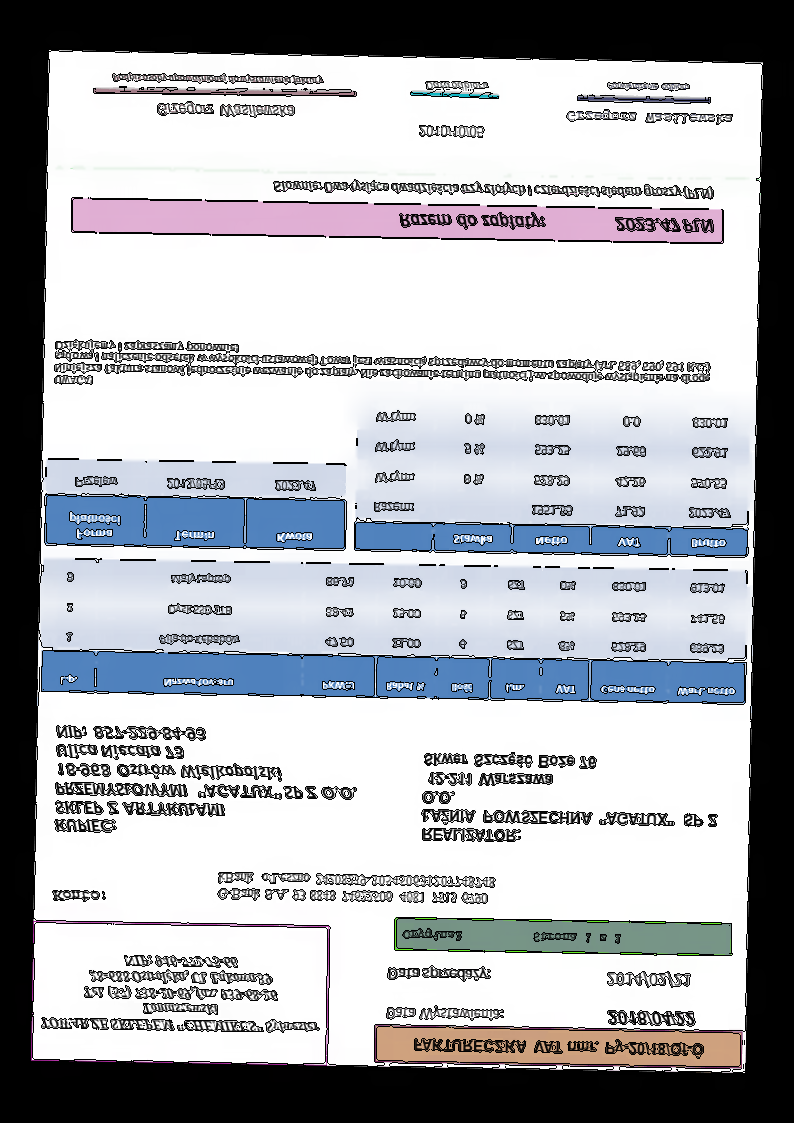Table: (39, 558, 749, 705), (353, 399, 752, 559), (44, 458, 347, 550)
TextBox: (52, 336, 713, 400), (50, 722, 362, 840), (419, 749, 721, 849), (38, 949, 322, 1039), (270, 175, 720, 205), (213, 867, 497, 908), (394, 207, 717, 241), (408, 1037, 705, 1061), (401, 926, 623, 948), (108, 70, 326, 91), (562, 108, 734, 129), (154, 100, 297, 125), (384, 1004, 505, 1025), (385, 963, 493, 986), (602, 1006, 697, 1031), (604, 967, 694, 991), (604, 78, 693, 96), (414, 121, 486, 142), (49, 887, 107, 906), (423, 80, 491, 96)
